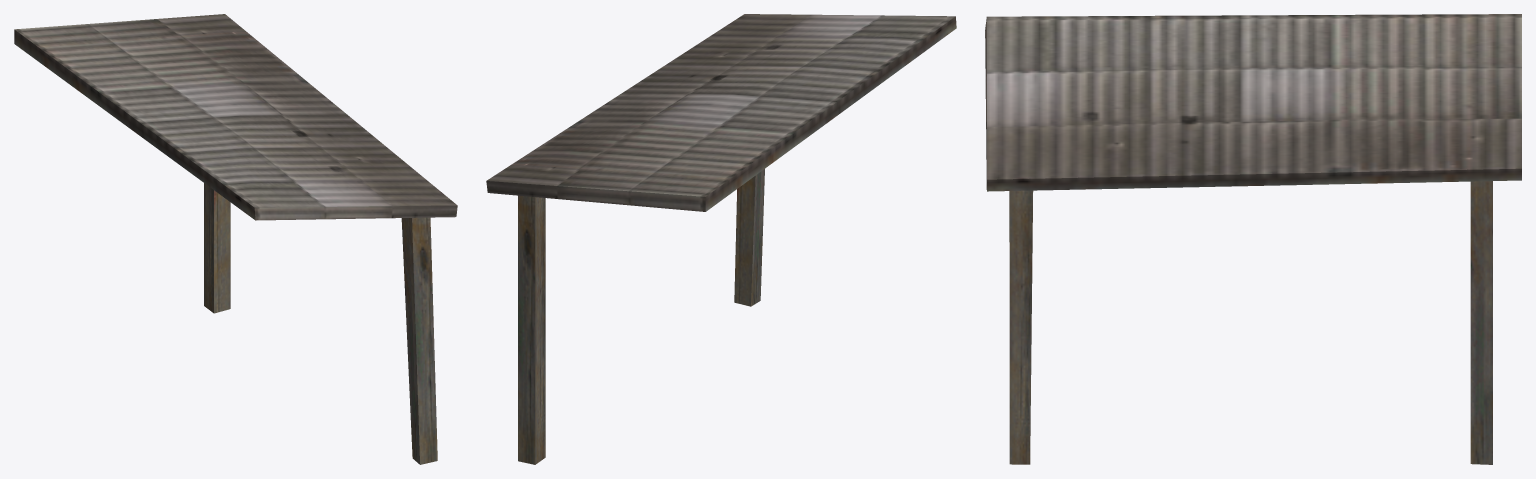
Rendered from house3_roof.fbx.
The picture shows the model from 3 angles, left to right: view 1: azimuth 30°, elevation 25°; view 2: azimuth 150°, elevation 25°; view 3: azimuth 270°, elevation 25°; orthographic projection. The views are drawn at different scales.
Parts seen in each view (by area): view 1: house03_roof; view 2: house03_roof; view 3: house03_roof.
Boxes of the visible parts, <box> form: house03_roof: <box>14,14,457,464</box>; house03_roof: <box>486,14,956,464</box>; house03_roof: <box>985,14,1521,464</box>.
Size of the model in its own units: 184 by 260 by 365.
Materials: 1 (1 with a texture image).
